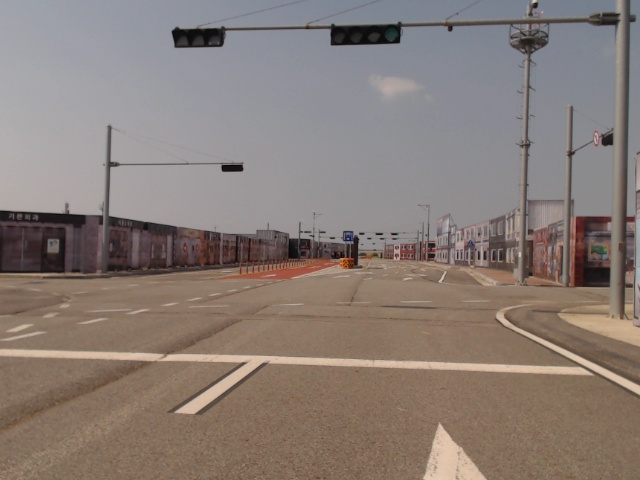straight_green_4: (332, 25, 401, 47)
